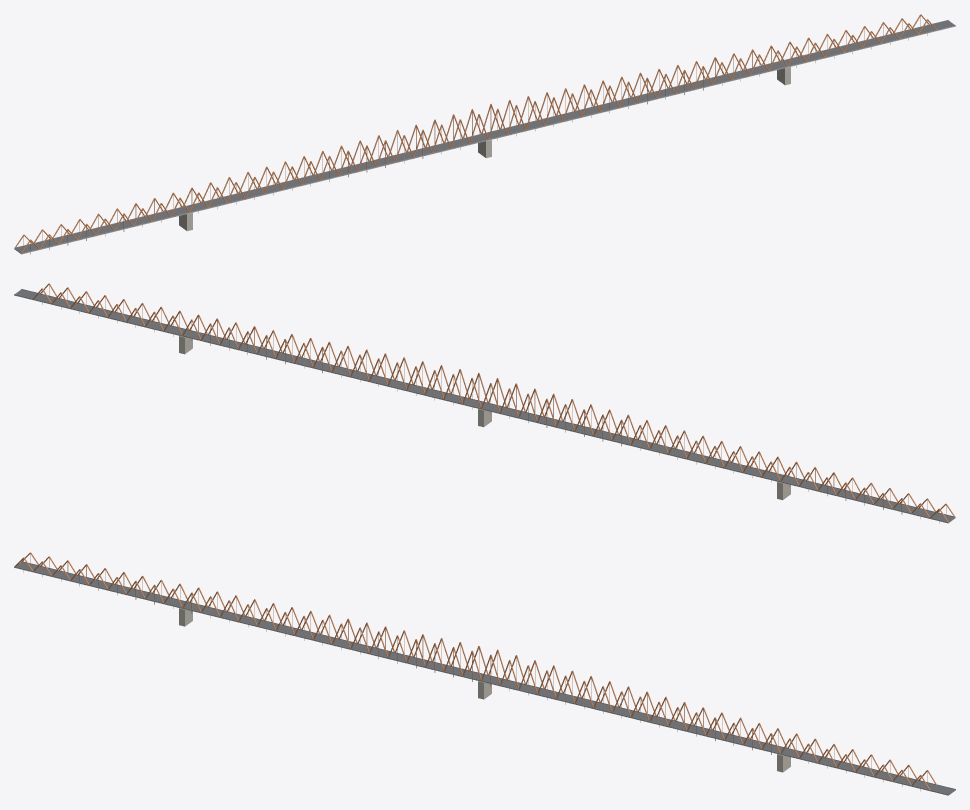
3 renders of one model, top to bottom at view 1: azimuth 30°, elevation 25°; view 2: azimuth 150°, elevation 25°; view 3: azimuth 330°, elevation 25°, orthographic.
Parts seen in each view (by area): view 1: worldgen; view 2: worldgen; view 3: worldgen.
Boxes of the visible parts, box(x1,y1,x2,y2) form: worldgen: box(14, 14, 955, 254); worldgen: box(14, 283, 955, 523); worldgen: box(14, 552, 955, 795).
Bounding box in the file's own units: 2501 × 118 × 37.25.
